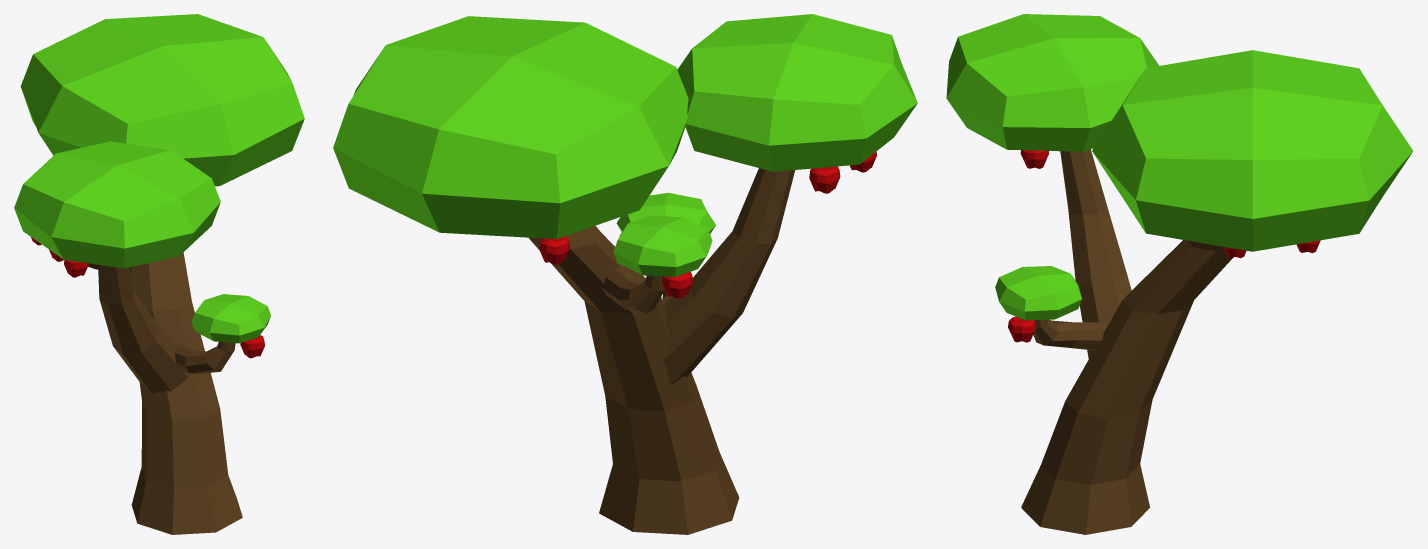
Rendered from Apple boom 3.fbx.
3 views of the same model, side by side, from view 1: azimuth 30°, elevation 25°; view 2: azimuth 150°, elevation 25°; view 3: azimuth 270°, elevation 25° (orthographic). The views are drawn at different scales.
Visible parts, largest first — view 1: Appel boom 3, Appel.001; view 2: Appel boom 3, Appel.006, Appel.003; view 3: Appel boom 3, Appel.001.
Part boxes in pixels (x1,y1,x2,y2): Appel boom 3: (14,14,304,534); Appel.001: (240,335,264,358); Appel boom 3: (333,14,917,534); Appel.006: (539,236,570,264); Appel.003: (809,166,840,193); Appel boom 3: (946,14,1413,534); Appel.001: (1008,316,1036,342).
Bounding box in the file's own units: 4.08 × 4.55 × 4.31.
